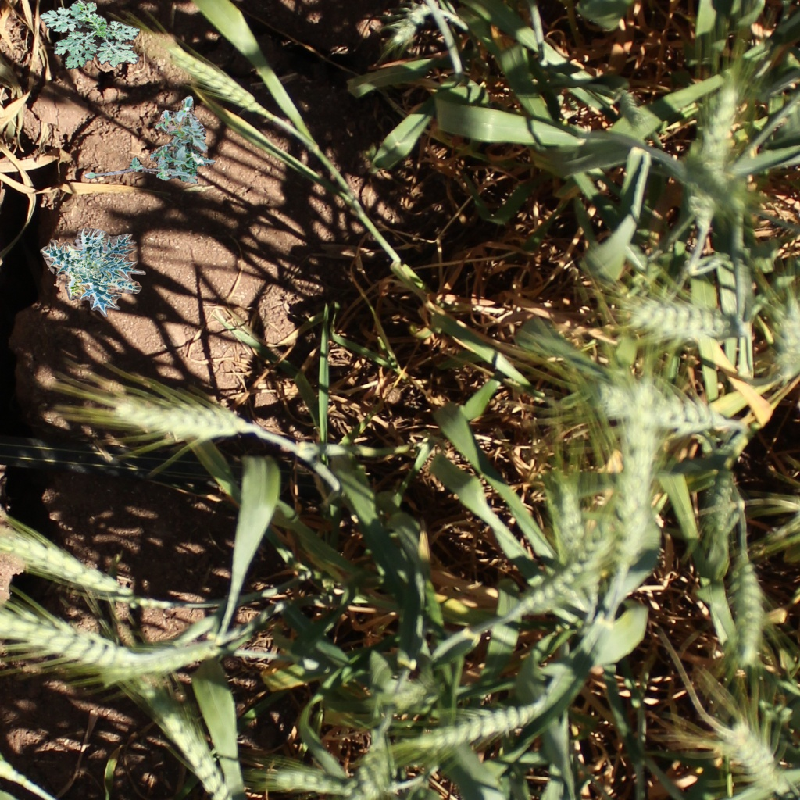spikelet: (507, 515, 611, 633), (601, 395, 667, 578), (1, 598, 147, 677), (681, 76, 752, 223), (1, 525, 136, 601), (590, 370, 728, 439), (403, 697, 540, 759), (155, 701, 240, 799), (110, 391, 254, 445), (711, 711, 798, 796), (549, 483, 603, 619), (619, 285, 735, 345), (167, 46, 262, 111), (733, 556, 774, 674), (702, 473, 739, 583), (766, 287, 800, 384), (266, 770, 368, 800), (383, 1, 439, 51), (366, 729, 396, 800)
weed: (84, 95, 216, 184), (40, 227, 146, 317), (40, 1, 140, 70)
